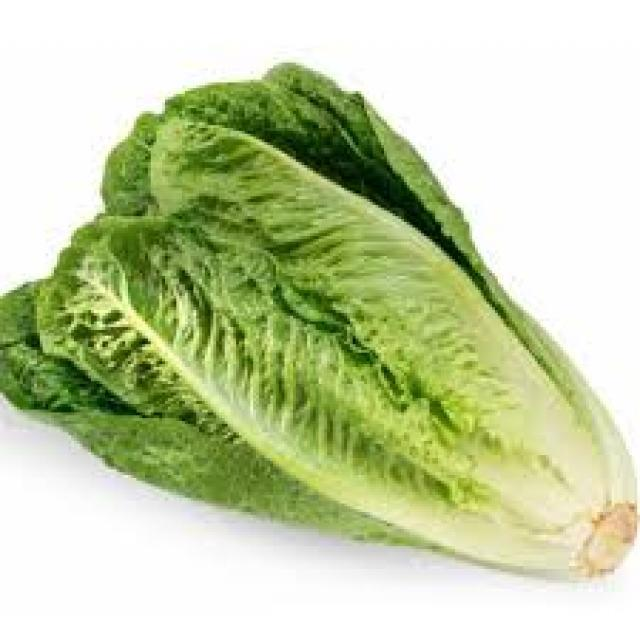Lettuce: (3, 57, 639, 583)
